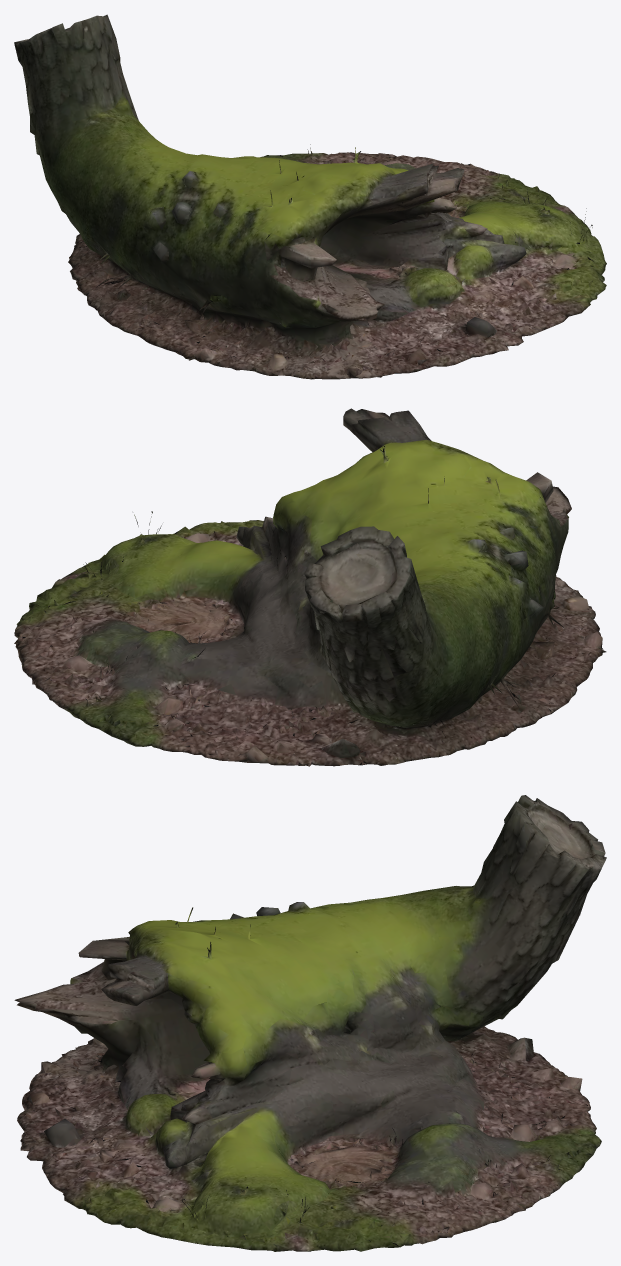
File: hollowlog.glb
3 renders of one model, top to bottom at view 1: azimuth 30°, elevation 25°; view 2: azimuth 150°, elevation 25°; view 3: azimuth 270°, elevation 25°, orthographic. The views are drawn at different scales.
Parts seen in each view (by area): view 1: hollowlog_00; view 2: hollowlog_00; view 3: hollowlog_00.
Boxes of the visible parts, box(x1,y1,x2,y2) form: hollowlog_00: box(14, 14, 606, 379); hollowlog_00: box(14, 408, 606, 766); hollowlog_00: box(14, 795, 606, 1251).
Size of the model in its own units: 1.89 by 0.8423 by 1.9.
Materials: 1 (1 with a texture image).
